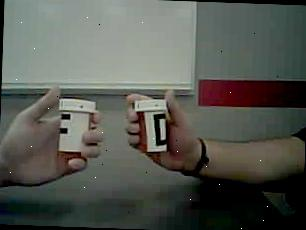Bottle D: (130, 96, 174, 158)
Bottle F: (54, 96, 98, 156)
